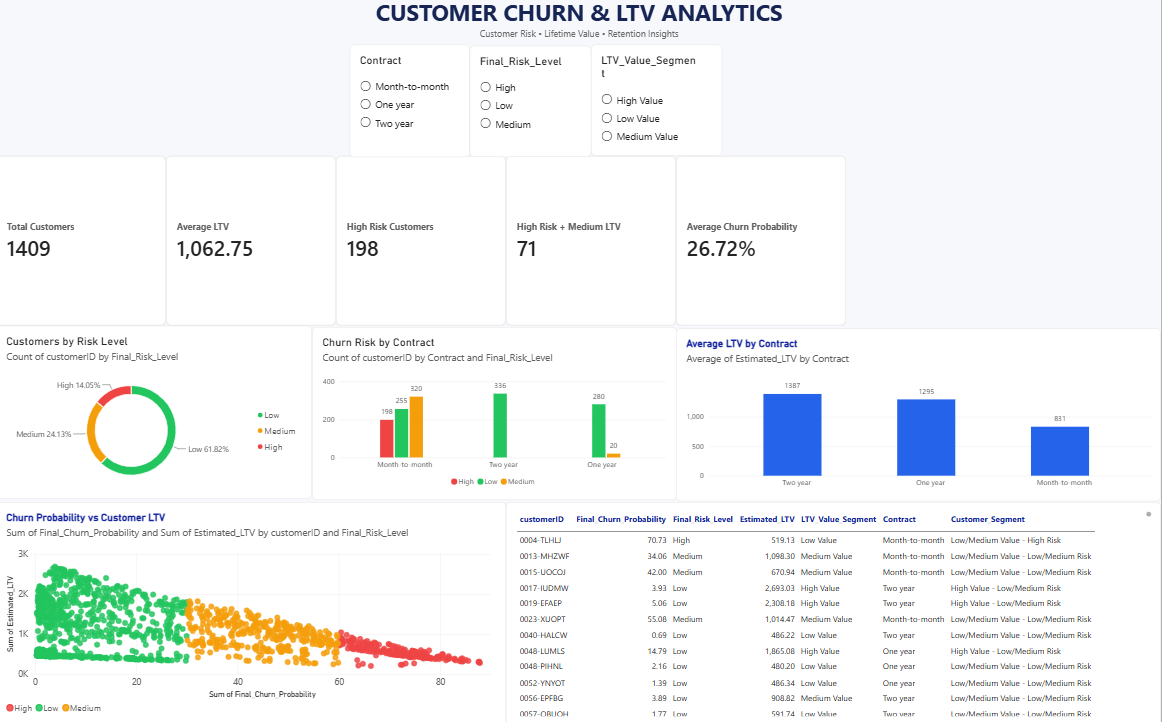

The dashboard page shown, as its layout file describes it:
{"tool":"powerbi","page":{"name":"Page 1","canvas":[1920,1200],"ordinal":0},"visuals":[{"type":"cardVisual","title":"Total Customers","fields":{"Data":["Count(final_customer_churn_ltv.customerID)"]},"box":[0,261.4,280,280],"z":0},{"type":"cardVisual","fields":{"Data":["Avg(final_customer_churn_ltv.Estimated_LTV)"]},"box":[279.9,261.4,280,280],"z":1000},{"type":"cardVisual","fields":{"Data":["Count(final_customer_churn_ltv.customerID)"]},"box":[559.9,261.4,280,280],"z":2000},{"type":"cardVisual","fields":{"Data":["Count(final_customer_churn_ltv.customerID)"]},"box":[839.8,261.4,280,280],"z":3000},{"type":"cardVisual","fields":{"Data":["final_customer_churn_ltv.Average Churn Probability %"]},"box":[1119.7,261.4,280,280],"z":4000},{"type":"donutChart","title":"Customers by Risk Level","fields":{"Category":["final_customer_churn_ltv.Final_Risk_Level"],"Y":["CountNonNull(final_customer_churn_ltv.customerID)"]},"box":[0,541.3,520,285],"z":5000},{"type":"clusteredColumnChart","title":"Churn Risk by Contract","fields":{"Category":["final_customer_churn_ltv.Contract"],"Y":["CountNonNull(final_customer_churn_ltv.customerID)"],"Series":["final_customer_churn_ltv.Final_Risk_Level"]},"box":[520.8,543.4,600,285],"z":6000},{"type":"clusteredColumnChart","title":"Average LTV by Contract","fields":{"Category":["final_customer_churn_ltv.Contract"],"Y":["Avg(final_customer_churn_ltv.Estimated_LTV)"]},"box":[1119.7,545.5,800,285],"z":7000},{"type":"scatterChart","title":"Churn Probability vs Customer LTV","fields":{"X":["Sum(final_customer_churn_ltv.Final_Churn_Probability)"],"Y":["Sum(final_customer_churn_ltv.Estimated_LTV)"],"Series":["final_customer_churn_ltv.Final_Risk_Level"],"Category":["final_customer_churn_ltv.customerID"]},"box":[0,831.6,840,370],"z":8000},{"type":"tableEx","fields":{"Values":["final_customer_churn_ltv.customerID","final_customer_churn_ltv.Final_Churn_Probability","final_customer_churn_ltv.Final_Risk_Level","final_customer_churn_ltv.Estimated_LTV","final_customer_churn_ltv.LTV_Value_Segment","final_customer_churn_ltv.Contract","final_customer_churn_ltv.Customer_Segment"]},"box":[839.8,831.6,1080,370],"z":9000},{"type":"textbox","box":[0,0,1920.4,78.2],"z":10000},{"type":"listSlicer","fields":{"Values":["final_customer_churn_ltv.Contract"]},"box":[582.5,78.2,197.6,185.2],"z":11000},{"type":"listSlicer","fields":{"Values":["final_customer_churn_ltv.Final_Risk_Level"]},"box":[780.1,80.3,199.7,183.2],"z":12000},{"type":"listSlicer","fields":{"Values":["final_customer_churn_ltv.LTV_Value_Segment"]},"box":[979.8,78.2,216.1,183.2],"z":13000}]}

Visuals, with their boxes in screenshot pixels (x1, y1, x2, y2), scaled from the page's 1920x1200 canvas onto the 1162x722 screenshot:
"Total Customers" cardVisual: BBox(0, 157, 169, 326)
cardVisual - Avg(final_customer_churn_ltv.Estimated_LTV): BBox(169, 157, 339, 326)
cardVisual - Count(final_customer_churn_ltv.customerID): BBox(339, 157, 508, 326)
cardVisual - Count(final_customer_churn_ltv.customerID): BBox(508, 157, 678, 326)
cardVisual - final_customer_churn_ltv.Average Churn Probability %: BBox(678, 157, 847, 326)
"Customers by Risk Level" donutChart: BBox(0, 326, 315, 497)
"Churn Risk by Contract" clusteredColumnChart: BBox(315, 327, 678, 498)
"Average LTV by Contract" clusteredColumnChart: BBox(678, 328, 1161, 500)
"Churn Probability vs Customer LTV" scatterChart: BBox(0, 500, 508, 721)
tableEx - final_customer_churn_ltv.customerID x final_customer_churn_ltv.Final_Churn_Probability: BBox(508, 500, 1161, 721)
textbox: BBox(0, 0, 1161, 47)
listSlicer - final_customer_churn_ltv.Contract: BBox(353, 47, 472, 158)
listSlicer - final_customer_churn_ltv.Final_Risk_Level: BBox(472, 48, 593, 159)
listSlicer - final_customer_churn_ltv.LTV_Value_Segment: BBox(593, 47, 724, 157)
